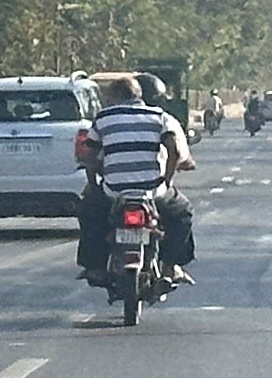BikeWithRider: (70, 67, 202, 330), (237, 86, 268, 138), (198, 84, 227, 138)
Helmet: (128, 69, 171, 110), (210, 88, 220, 96)
NoHelmet: (103, 73, 146, 111), (250, 89, 259, 96)
